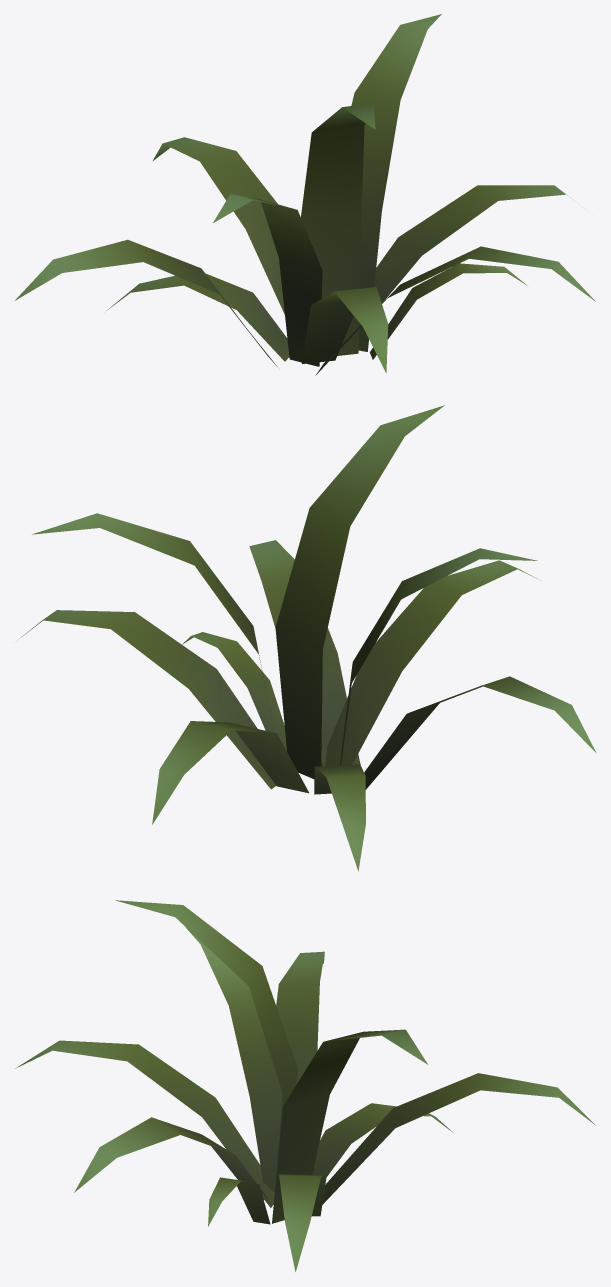
File: Grass.fbx
The picture shows the model from 3 angles, top to bottom: view 1: azimuth 30°, elevation 25°; view 2: azimuth 150°, elevation 25°; view 3: azimuth 270°, elevation 25°; orthographic projection. The views are drawn at different scales.
Parts seen in each view (by area): view 1: Grass; view 2: Grass; view 3: Grass.
Part boxes in pixels (x1,y1,x2,y2): Grass: [15, 14, 595, 375]; Grass: [19, 405, 596, 871]; Grass: [15, 900, 595, 1271].
Size of the model in its own units: 111 by 55.84 by 102.
Materials: 1 (1 with a texture image).
